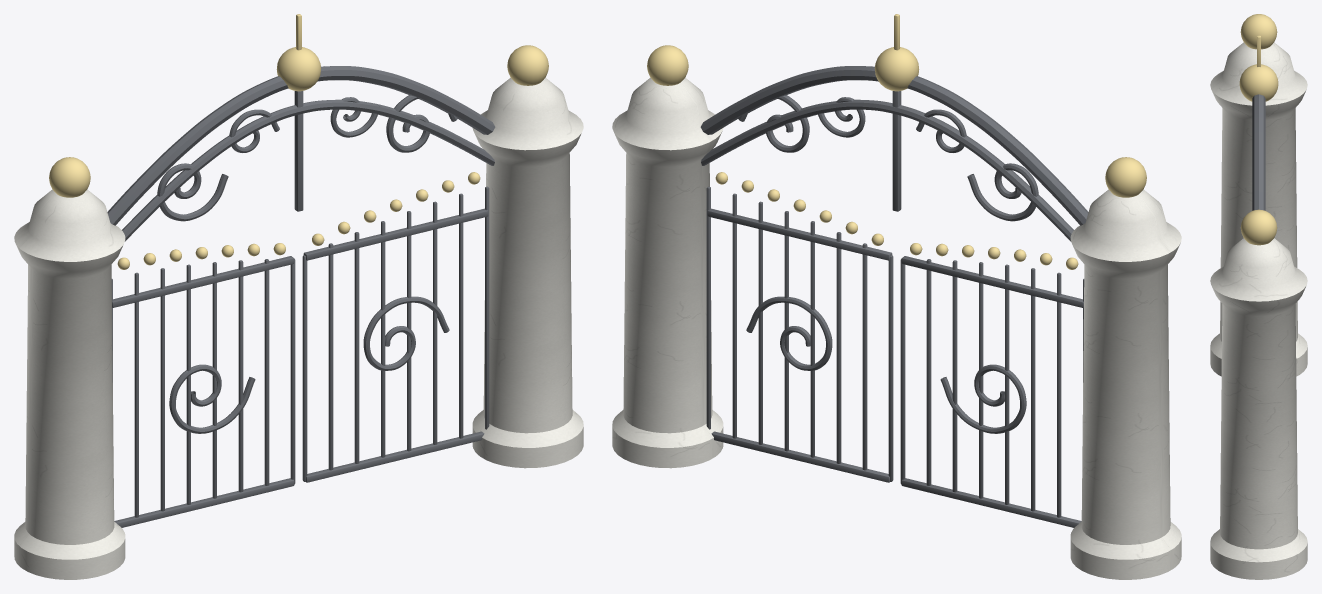
File: th35_torbogen.glb
The picture shows the model from 3 angles, left to right: view 1: azimuth 30°, elevation 25°; view 2: azimuth 150°, elevation 25°; view 3: azimuth 270°, elevation 25°; orthographic projection. The views are drawn at different scales.
Parts seen in each view (by area): view 1: Pfeiler, Pfeiler.001, Bogen, Bogen2, Cube.013, Cube.003, TorV, TorV.001, Cube.012, Cube.002, Sphere.002, V (+19 smaller); view 2: Pfeiler, Pfeiler.001, Bogen, Bogen2, Cube.013, Cube.003, TorV, TorV.001, Cube.012, Cube.002, Sphere.002, V (+19 smaller); view 3: Pfeiler.001, Pfeiler, Bogen, Sphere.002, Sphere.001, Sphere.
Boxes of the visible parts, x1,y1,x2,y2 form: Pfeiler: [14, 189, 125, 579]; Pfeiler.001: [472, 77, 583, 468]; Bogen: [107, 66, 495, 225]; Bogen2: [122, 99, 494, 241]; Cube.013: [303, 208, 488, 260]; Cube.003: [112, 256, 294, 307]; TorV: [169, 364, 255, 433]; TorV.001: [363, 296, 449, 370]; Cube.012: [306, 431, 484, 482]; Cube.002: [114, 478, 294, 527]; Sphere.002: [276, 47, 321, 91]; V: [157, 163, 228, 221]; Pfeiler: [1070, 189, 1181, 579]; Pfeiler.001: [612, 77, 723, 468]; Bogen: [700, 66, 1088, 225]; Bogen2: [701, 99, 1073, 241]; Cube.013: [707, 208, 892, 260]; Cube.003: [901, 256, 1083, 307]; TorV: [940, 364, 1026, 433]; TorV.001: [746, 296, 832, 370]; Cube.012: [711, 431, 889, 482]; Cube.002: [901, 478, 1081, 527]; Sphere.002: [874, 47, 919, 91]; V: [967, 163, 1038, 221]; Pfeiler.001: [1210, 238, 1307, 579]; Pfeiler: [1210, 42, 1307, 376]; Bogen: [1252, 94, 1265, 210]; Sphere.002: [1239, 64, 1278, 101]; Sphere.001: [1240, 209, 1277, 245]; Sphere: [1240, 14, 1277, 49].
Bounding box in the file's own units: 4.6 × 3.85 × 0.8.
3 materials, 1 textured.
